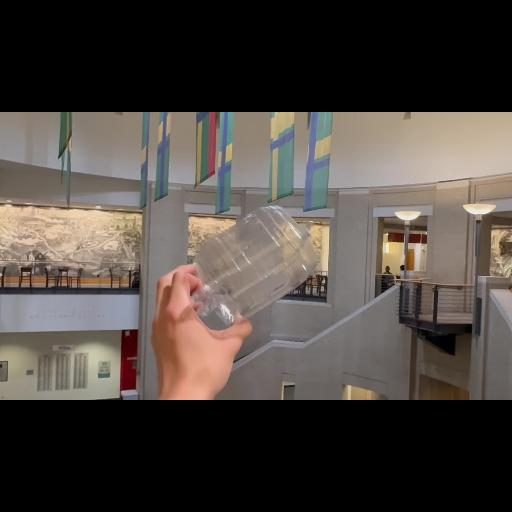small_plastic_container: (181, 202, 323, 330)
